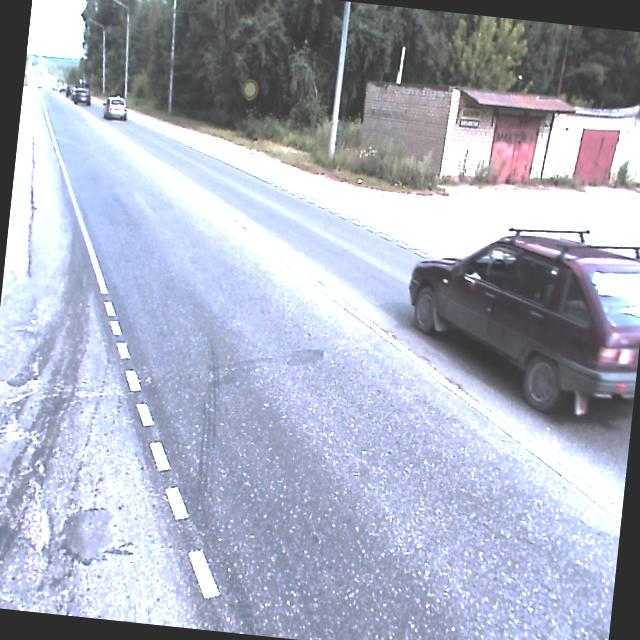road: (0, 73, 633, 640)
